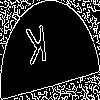K: (25, 25, 49, 75)
